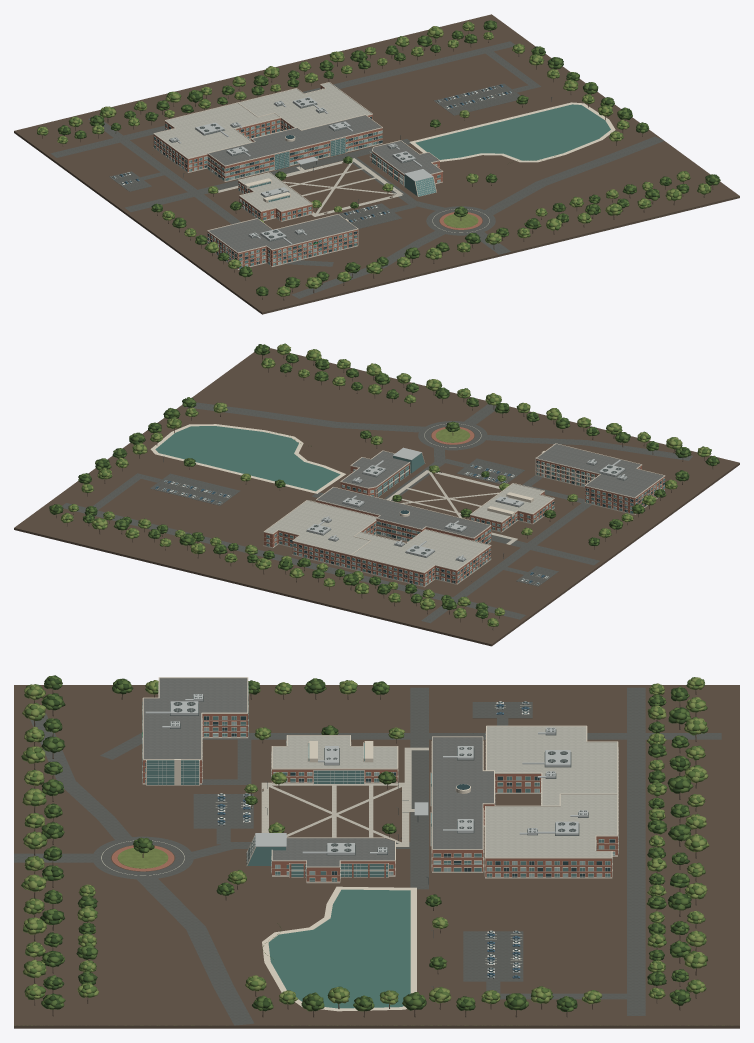
Rendered from ornl-campus.glb.
The picture shows the model from 3 angles, top to bottom: view 1: azimuth 30°, elevation 25°; view 2: azimuth 150°, elevation 25°; view 3: azimuth 270°, elevation 25°; orthographic projection. The views are drawn at different scales.
Parts seen in each view (by area): view 1: site-ground-and-pond, landscape-trees, roads-and-markings, 5300-science-technology, 5700-research-office, 5600-computational-sciences, 5800-engineering-technology, parking-and-vehicles, quad-and-shoreline, architectural-details, 5100-joint-institute, curtain-walls (+1 smaller); view 2: site-ground-and-pond, landscape-trees, roads-and-markings, 5600-computational-sciences, 5300-science-technology, 5800-engineering-technology, 5700-research-office, parking-and-vehicles, architectural-details, quad-and-shoreline, 5100-joint-institute, 5200-research-support (+1 smaller); view 3: site-ground-and-pond, landscape-trees, roads-and-markings, 5800-engineering-technology, 5600-computational-sciences, 5300-science-technology, 5700-research-office, parking-and-vehicles, quad-and-shoreline, architectural-details, curtain-walls, 5100-joint-institute (+1 smaller).
Part boxes in pixels (x1=…): site-ground-and-pond: x1=14, y1=14, x2=739, y2=314; landscape-trees: x1=37, y1=20, x2=720, y2=300; roads-and-markings: x1=50, y1=41, x2=664, y2=298; 5300-science-technology: x1=207, y1=214, x2=358, y2=269; 5700-research-office: x1=207, y1=114, x2=382, y2=181; 5600-computational-sciences: x1=153, y1=102, x2=280, y2=172; 5800-engineering-technology: x1=238, y1=82, x2=372, y2=130; parking-and-vehicles: x1=109, y1=83, x2=520, y2=228; quad-and-shoreline: x1=218, y1=102, x2=615, y2=216; architectural-details: x1=169, y1=97, x2=421, y2=244; 5100-joint-institute: x1=238, y1=172, x2=312, y2=221; curtain-walls: x1=274, y1=137, x2=436, y2=244; site-ground-and-pond: x1=14, y1=348, x2=739, y2=646; landscape-trees: x1=49, y1=343, x2=719, y2=629; roads-and-markings: x1=62, y1=402, x2=692, y2=623; 5600-computational-sciences: x1=351, y1=529, x2=491, y2=587; 5300-science-technology: x1=535, y1=443, x2=665, y2=514; 5800-engineering-technology: x1=263, y1=500, x2=376, y2=569; 5700-research-office: x1=316, y1=487, x2=491, y2=543; parking-and-vehicles: x1=150, y1=458, x2=558, y2=586; architectural-details: x1=306, y1=451, x2=627, y2=561; quad-and-shoreline: x1=150, y1=424, x2=517, y2=544; 5100-joint-institute: x1=470, y1=483, x2=554, y2=532; 5200-research-support: x1=340, y1=450, x2=410, y2=496; site-ground-and-pond: x1=14, y1=685, x2=739, y2=1028; landscape-trees: x1=21, y1=675, x2=709, y2=1017; roads-and-markings: x1=14, y1=687, x2=721, y2=1025; 5800-engineering-technology: x1=484, y1=793, x2=618, y2=878; 5600-computational-sciences: x1=485, y1=725, x2=618, y2=806; 5300-science-technology: x1=142, y1=677, x2=248, y2=784; 5700-research-office: x1=431, y1=736, x2=495, y2=872; parking-and-vehicles: x1=193, y1=701, x2=532, y2=981; quad-and-shoreline: x1=261, y1=747, x2=428, y2=1011; architectural-details: x1=142, y1=694, x2=588, y2=877; curtain-walls: x1=146, y1=760, x2=431, y2=877; 5100-joint-institute: x1=271, y1=735, x2=398, y2=783.
Bounding box in the file's own units: 483 × 20.23 × 435.
26 materials, 6 textured.
